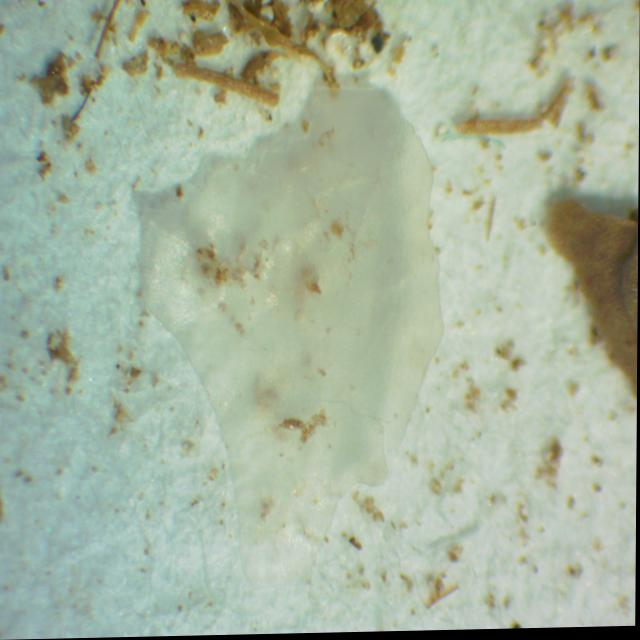microplastic: (140, 75, 443, 588)
